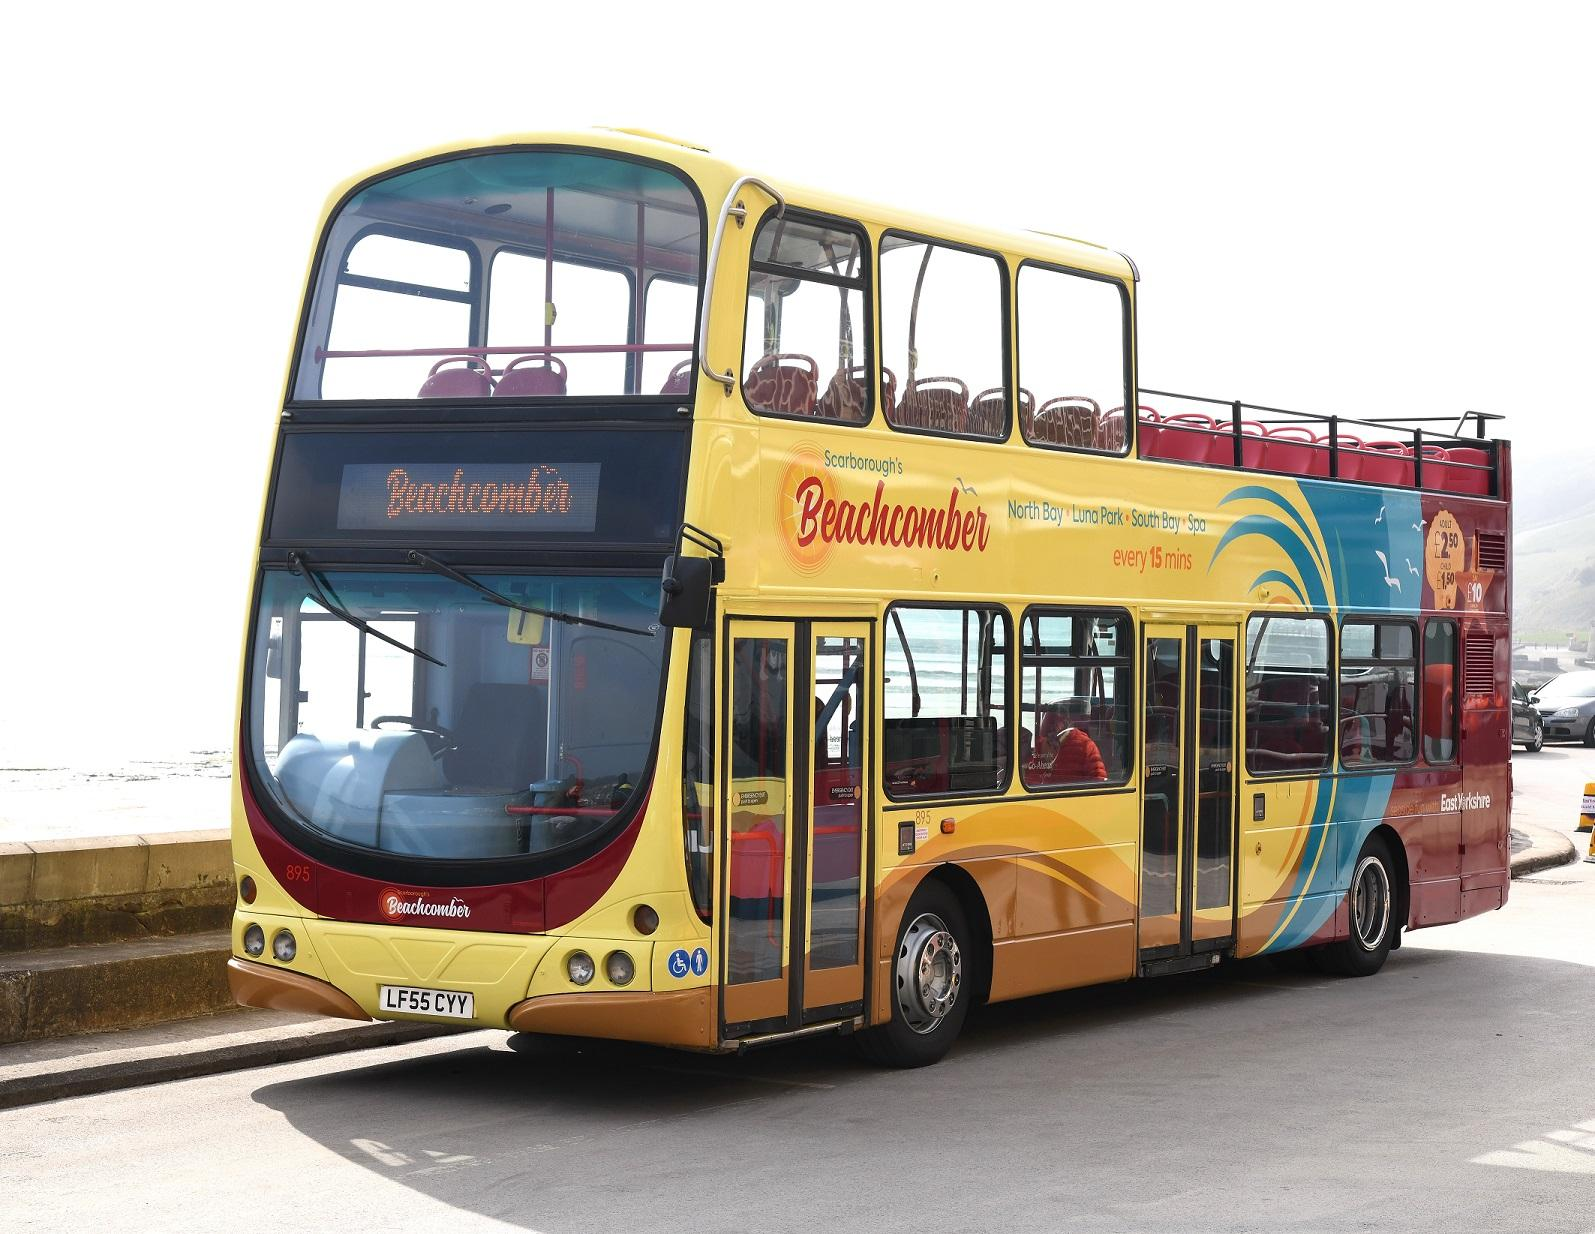bus: (223, 123, 1534, 1072)
